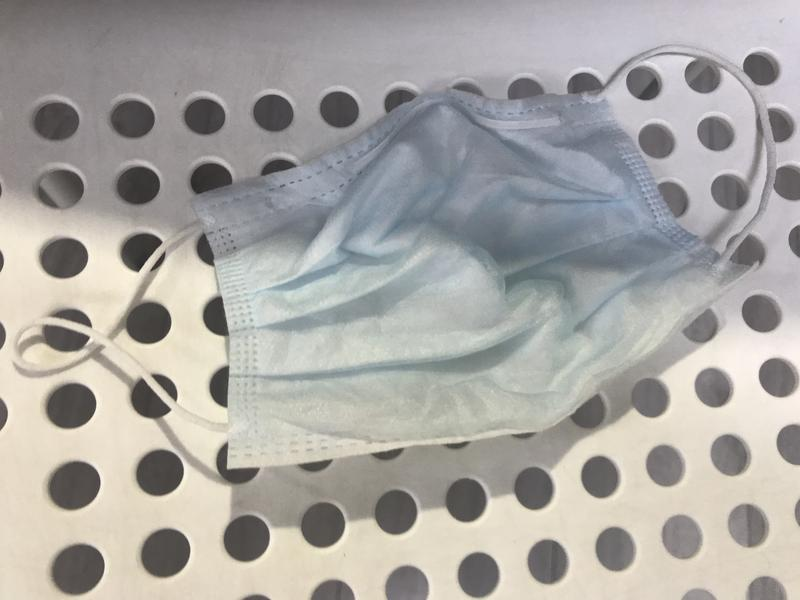medical_mask: (9, 41, 779, 474)
